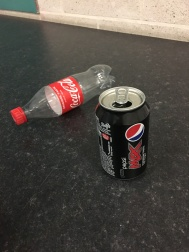bottle_red: (7, 65, 120, 128)
can_black: (86, 83, 163, 189)
